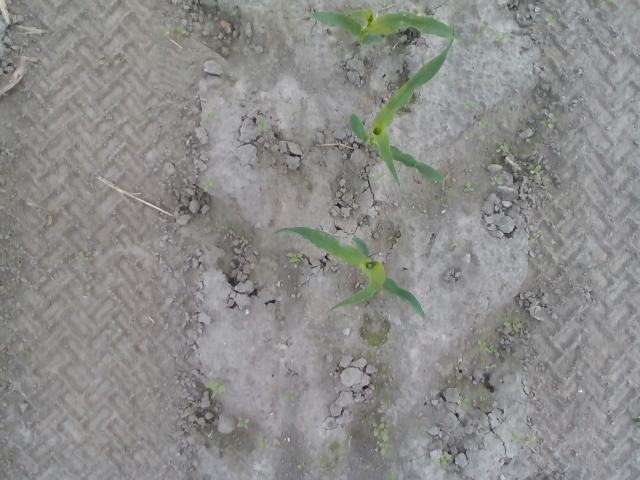Maize: (348, 24, 457, 189), (272, 225, 428, 322), (306, 6, 462, 46)
Weeds: (78, 246, 95, 296), (371, 421, 391, 457), (500, 318, 522, 332), (478, 340, 496, 354), (201, 176, 216, 192), (207, 381, 225, 394), (286, 251, 303, 264), (237, 416, 250, 430), (546, 112, 556, 130), (439, 453, 453, 465), (458, 396, 469, 410), (530, 164, 542, 176), (258, 118, 270, 128), (464, 130, 474, 141), (464, 100, 475, 110), (499, 142, 509, 153), (464, 183, 474, 193), (512, 431, 522, 441), (479, 118, 489, 128), (546, 15, 555, 24)
